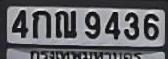3: (123, 11, 138, 39)
4: (11, 9, 27, 37), (104, 11, 119, 39)
6: (143, 13, 158, 38)
9: (84, 11, 99, 38)
A01: (31, 10, 50, 37)
A19: (54, 9, 76, 37)
